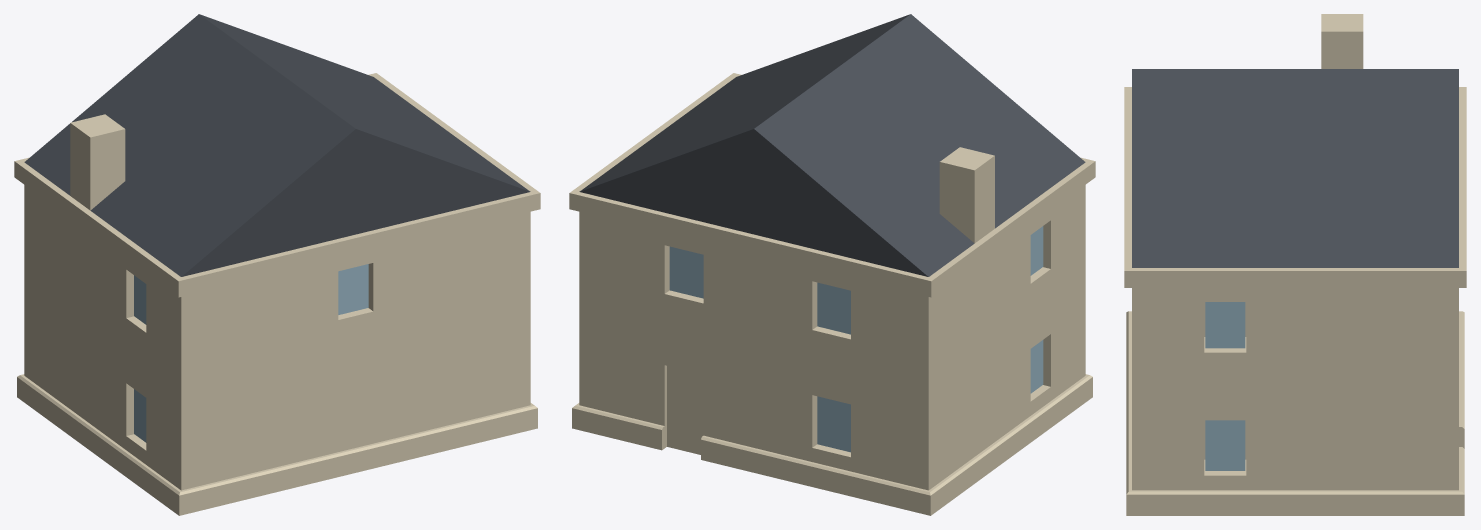
3 views of the same model, side by side, from view 1: azimuth 30°, elevation 25°; view 2: azimuth 150°, elevation 25°; view 3: azimuth 270°, elevation 25° (orthographic). The views are drawn at different scales.
Visible parts, largest first — view 1: body_plaster, roof_slate, trim_plaster, glass_glass (×2); view 2: body_plaster, roof_slate, trim_plaster, glass_glass (×4); view 3: roof_slate, body_plaster, trim_plaster, glass_glass (×2).
Boxes of the visible parts, bbox=[...] form: body_plaster: bbox=[24, 114, 530, 490]; roof_slate: bbox=[24, 14, 530, 276]; trim_plaster: bbox=[14, 73, 540, 515]; glass_glass (×2): bbox=[134, 264, 368, 442]; body_plaster: bbox=[579, 147, 1085, 490]; roof_slate: bbox=[579, 14, 1085, 276]; trim_plaster: bbox=[569, 73, 1095, 515]; glass_glass (×4): bbox=[669, 246, 1043, 452]; roof_slate: bbox=[1132, 69, 1458, 267]; body_plaster: bbox=[1132, 14, 1458, 490]; trim_plaster: bbox=[1124, 87, 1466, 515]; glass_glass (×2): bbox=[1205, 302, 1245, 470].
Size of what is drawn, in the model's own units: 9.32 by 8.4 by 7.32.
